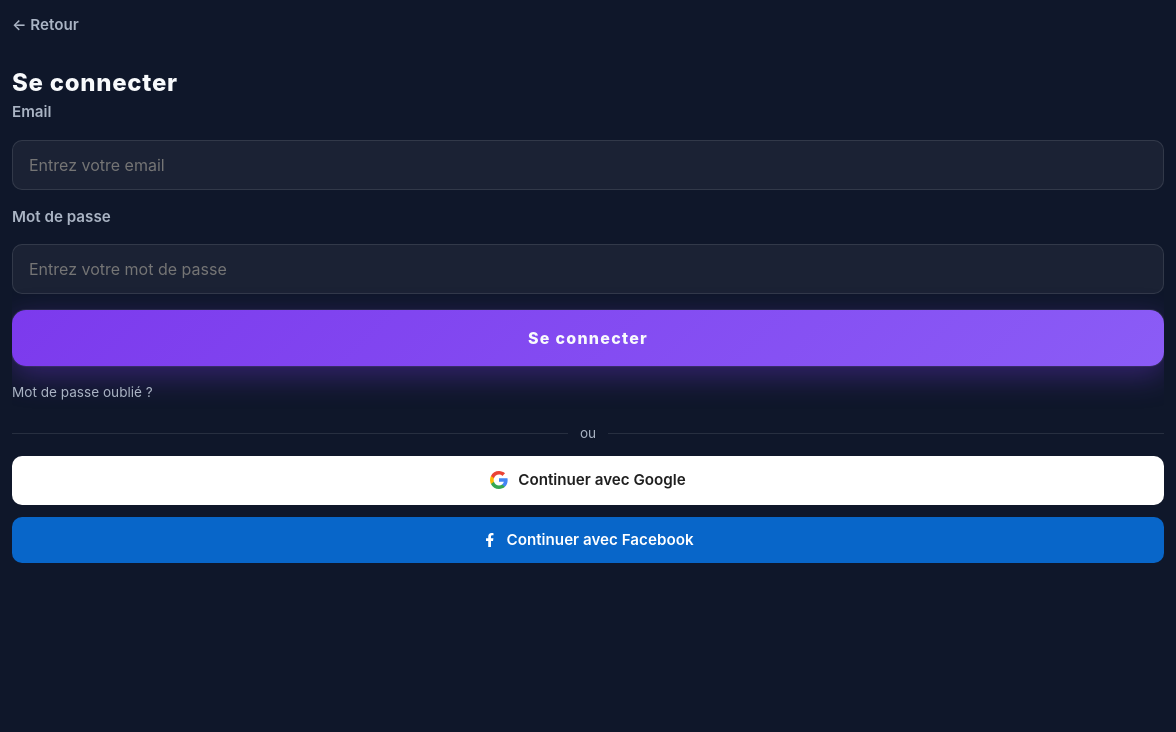
Test: LoginForm › affiche une erreur et n'appelle pas login si l'email est vide
The width and height of the screenshot is (1176, 732).
Type "motdepasse123" into the password field labelled "Mot de passe".
click(588, 269); type("motdepasse123")  # box [12,244,1164,294]
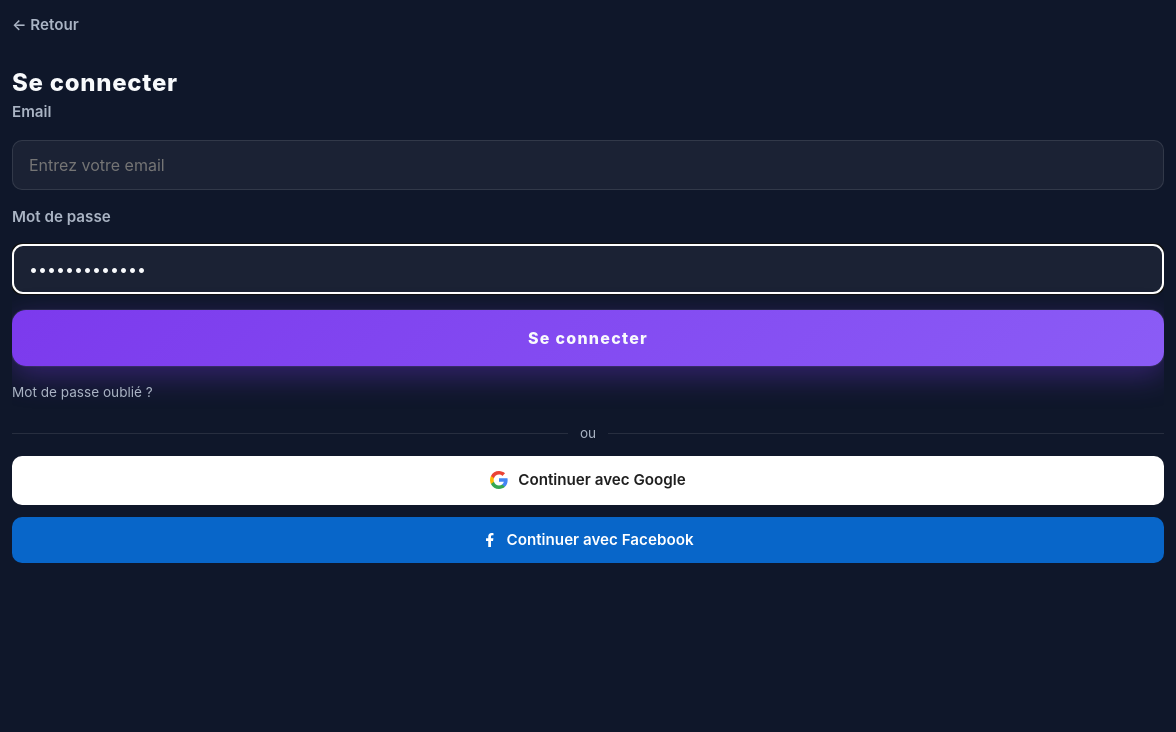
Click the button "Se connecter".
click(588, 338)  # box [12,310,1164,366]
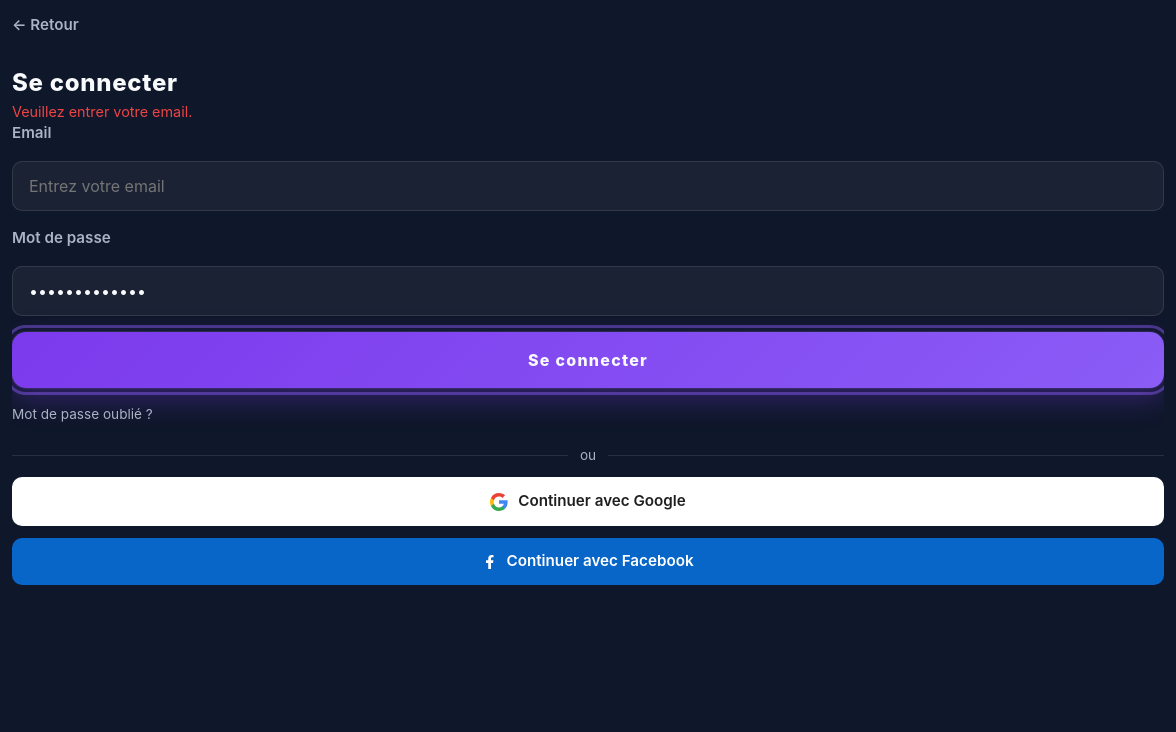
Check: the message reads "Veuillez entrer votre email.", box [12,103,192,120]
